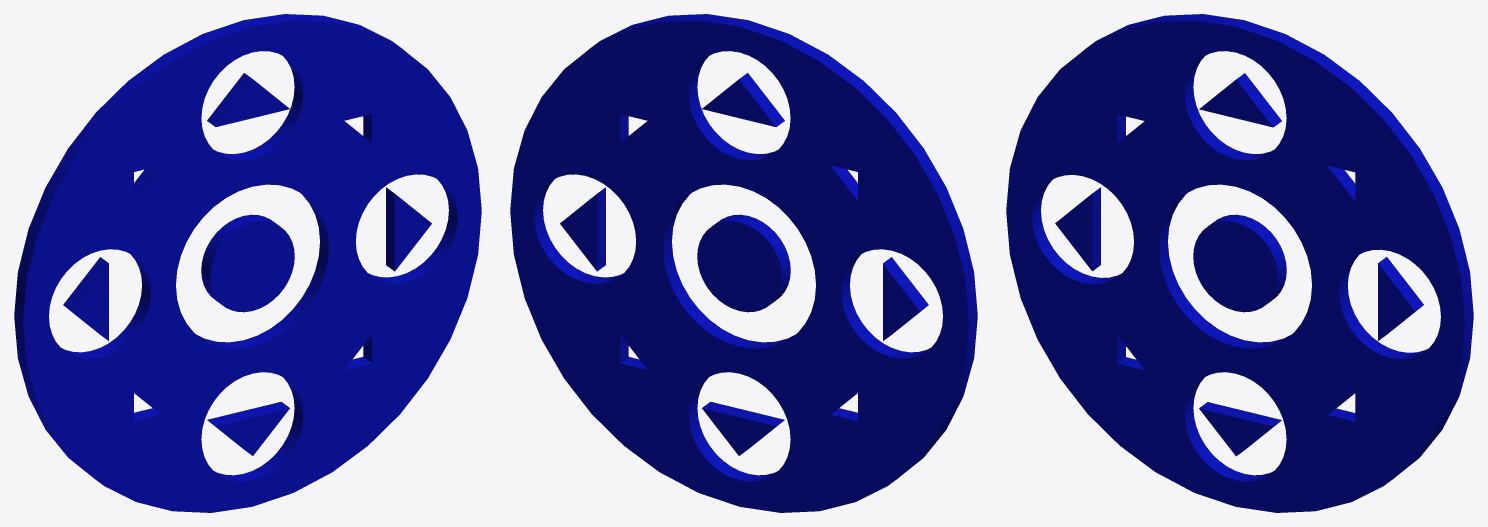
The model's file is Joystick_5.FBX.
3 views of the same model, side by side, from view 1: azimuth 30°, elevation 25°; view 2: azimuth 150°, elevation 25°; view 3: azimuth 330°, elevation 25° (orthographic).
Visible parts, largest first — view 1: Joystick_5; view 2: Joystick_5; view 3: Joystick_5.
Boxes of the visible parts, box(x1,y1,x2,y2) form: Joystick_5: box(14, 14, 481, 512); Joystick_5: box(510, 14, 977, 512); Joystick_5: box(1006, 14, 1473, 512).
Bounding box in the file's own units: 90 × 90 × 3.
